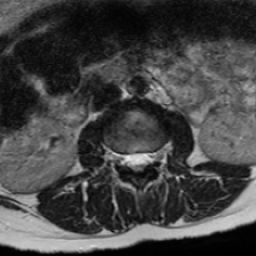CCS_normal: (134, 145, 143, 179)
LFS_normal: (153, 139, 161, 170)
LLS_normal: (143, 144, 153, 175)
RFS_normal: (115, 143, 125, 173)
RLS_normal: (125, 144, 134, 177)
